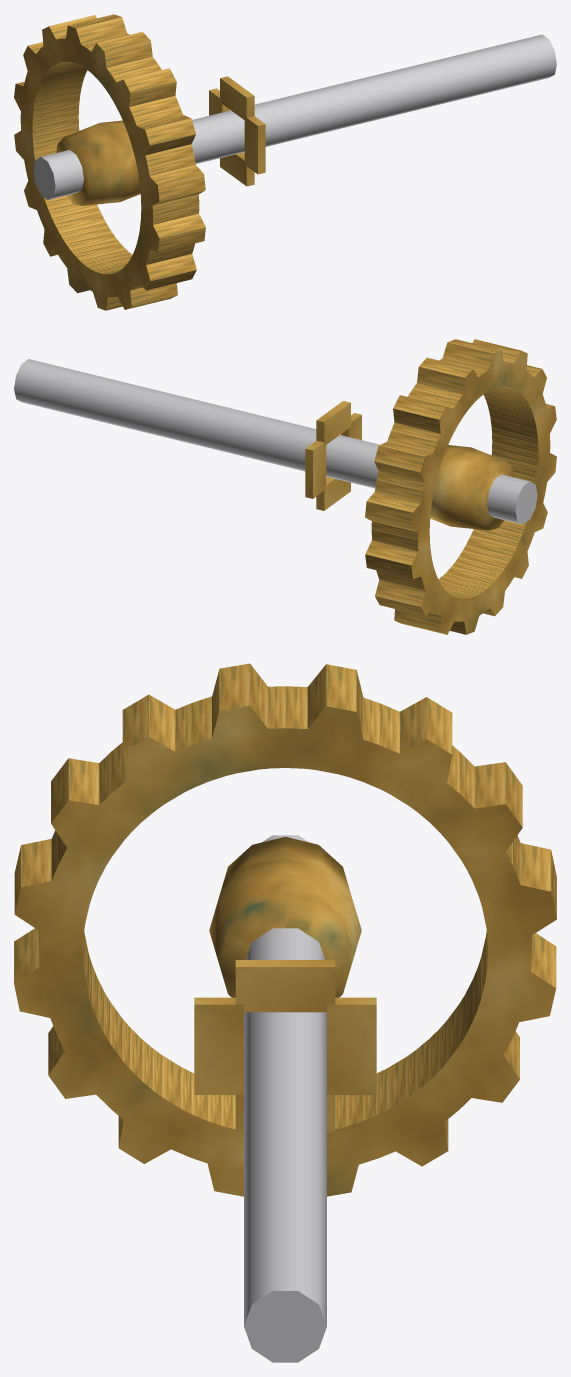
The model's file is sp_lift_pinion.glb.
The picture shows the model from 3 angles, top to bottom: view 1: azimuth 30°, elevation 25°; view 2: azimuth 150°, elevation 25°; view 3: azimuth 270°, elevation 25°; orthographic projection. The views are drawn at different scales.
Parts seen in each view (by area): view 1: spire; view 2: spire; view 3: spire.
Part boxes in pixels (<box>): spire: <box>14,14,556,310</box>; spire: <box>14,339,556,634</box>; spire: <box>14,663,556,1362</box>.
Bounding box in the file's own units: 1.3 × 0.6545 × 0.6545.
2 materials, 1 textured.
